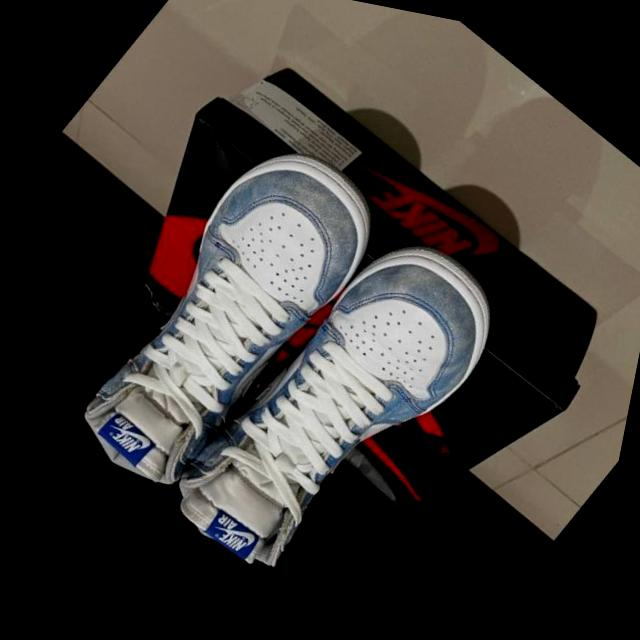nike_original_jordan: (142, 173, 538, 639), (31, 88, 415, 540)
